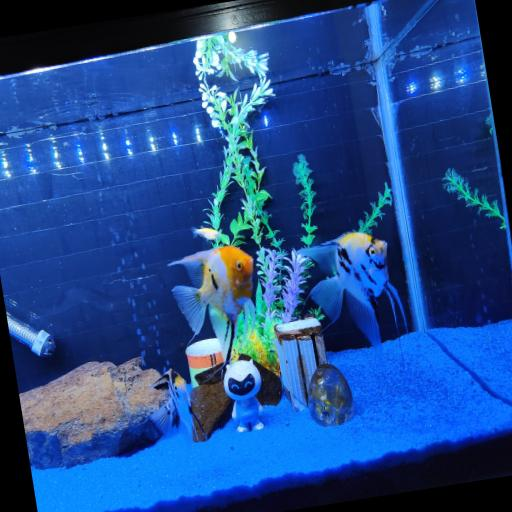Fish: (299, 232, 406, 358), (168, 246, 254, 364), (149, 369, 204, 440), (190, 227, 220, 240)
